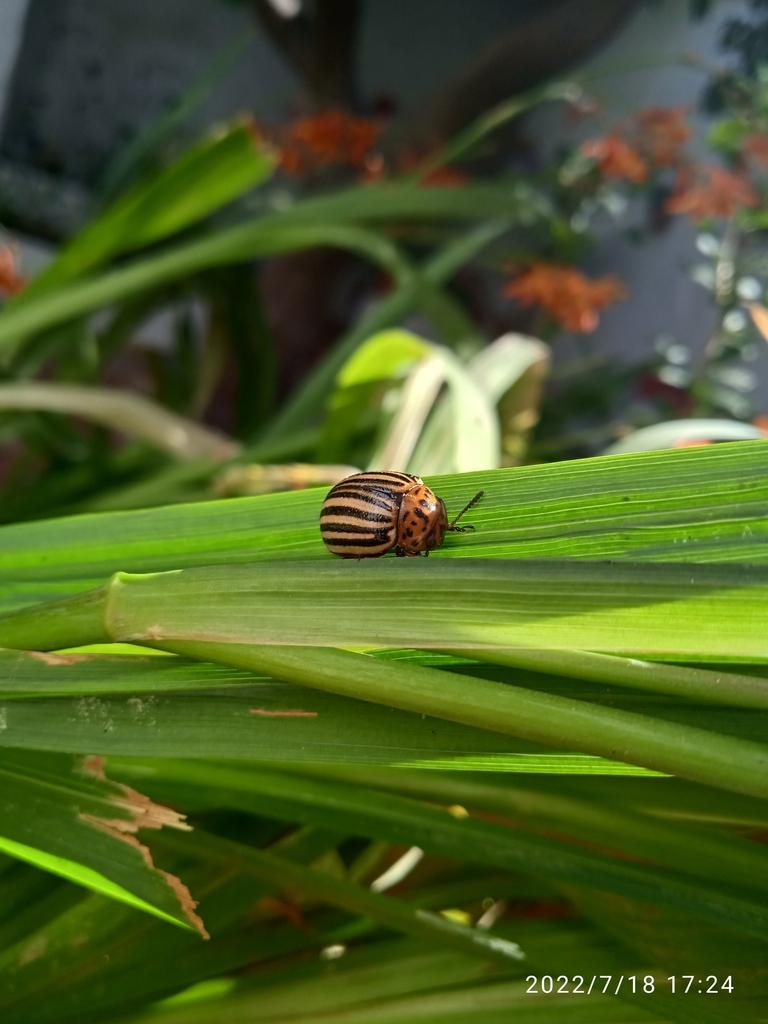potato_beetle: (297, 434, 491, 590)
